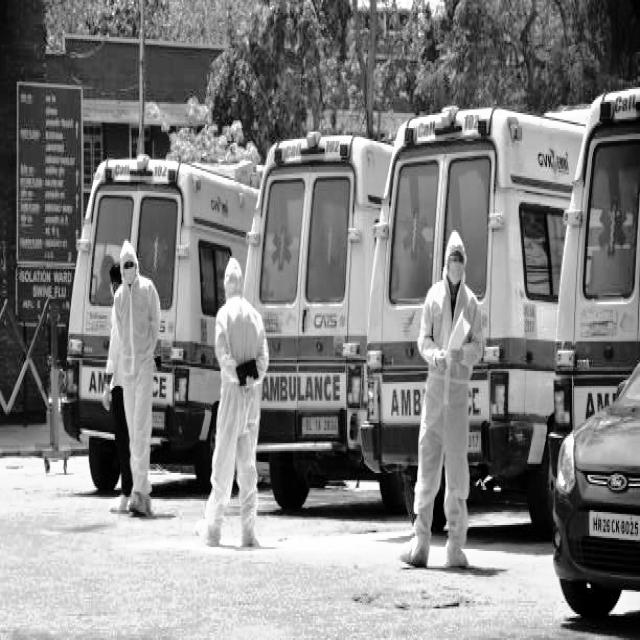Ambulance: (493, 192, 556, 381), (383, 102, 506, 167), (258, 351, 364, 423), (259, 207, 362, 281), (258, 122, 354, 188), (93, 141, 184, 208), (472, 367, 524, 453), (579, 186, 633, 254), (156, 340, 191, 434), (576, 91, 640, 141), (389, 198, 432, 271), (553, 369, 619, 414), (381, 376, 421, 446), (140, 223, 177, 280), (78, 360, 106, 412)
